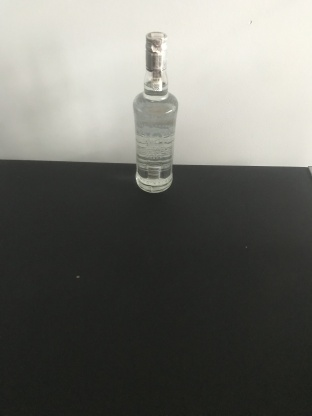nakretka: (143, 29, 169, 72)
